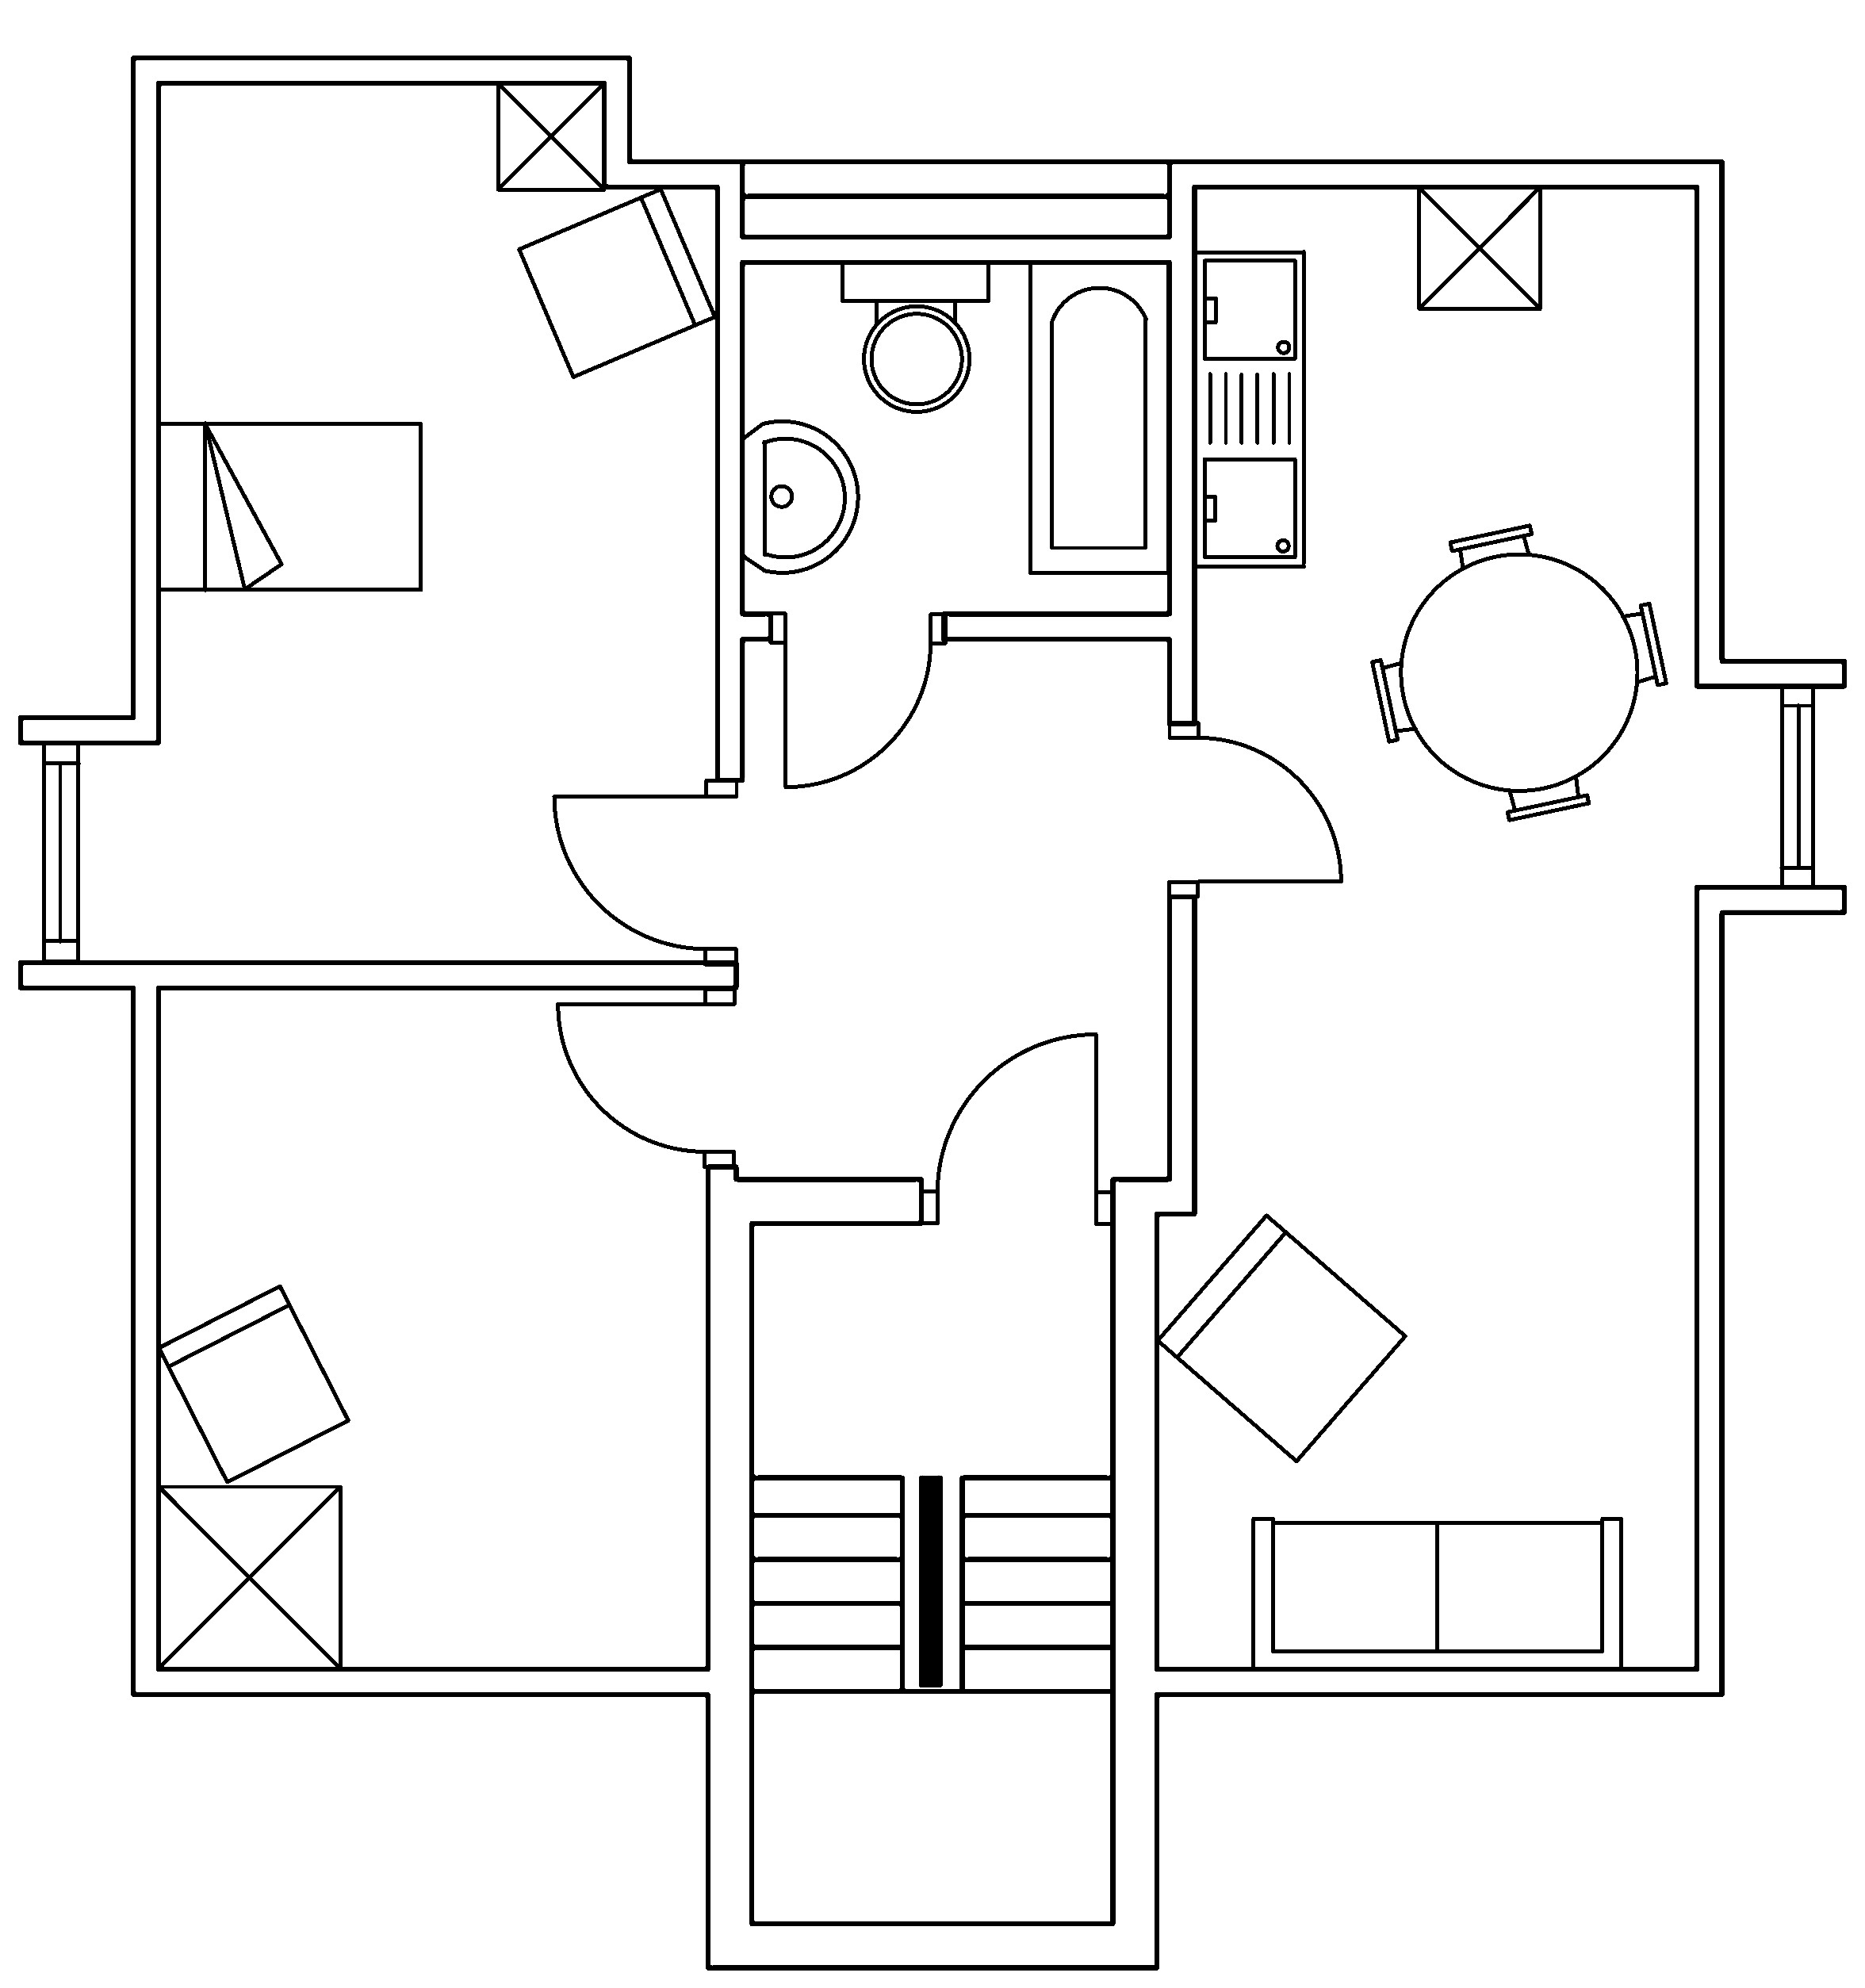bed: (154, 419, 424, 593)
coffee_table: (154, 1481, 342, 1671), (1416, 182, 1542, 310), (494, 79, 606, 191)
large_sink: (840, 258, 990, 412)
large_sofa: (1250, 1515, 1623, 1672)
round_table: (1369, 522, 1669, 822)
small_sink: (740, 419, 859, 573)
small_sofa: (1153, 1211, 1408, 1464), (156, 1282, 351, 1485), (515, 186, 717, 379)
tub: (1027, 258, 1171, 575)
twin_sink: (1192, 247, 1308, 570)
